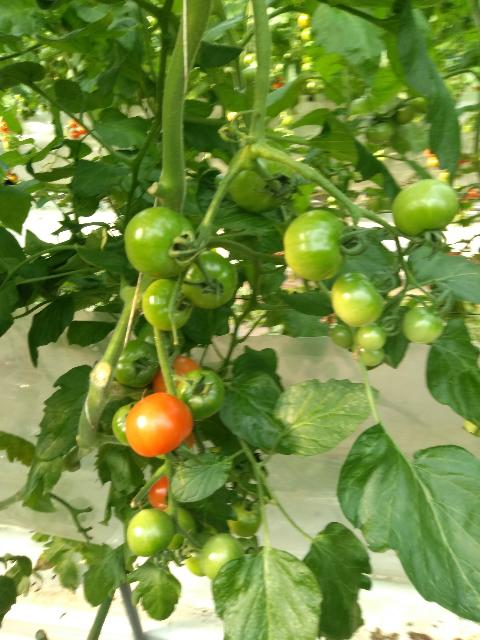l_fully_ripened: (148, 476, 169, 510)
l_green: (124, 206, 197, 279), (227, 142, 295, 214), (282, 210, 347, 281), (392, 179, 459, 237), (180, 249, 238, 310), (331, 272, 384, 328), (141, 279, 193, 332), (175, 369, 224, 419), (127, 509, 175, 557), (114, 338, 160, 388), (201, 532, 244, 582), (137, 321, 183, 356), (402, 306, 443, 344), (163, 506, 196, 550), (226, 499, 263, 538), (184, 533, 216, 577), (112, 401, 139, 446), (352, 343, 385, 368), (356, 325, 385, 350), (332, 323, 359, 349)
l_half_ripened: (125, 393, 193, 458), (152, 355, 202, 397)
